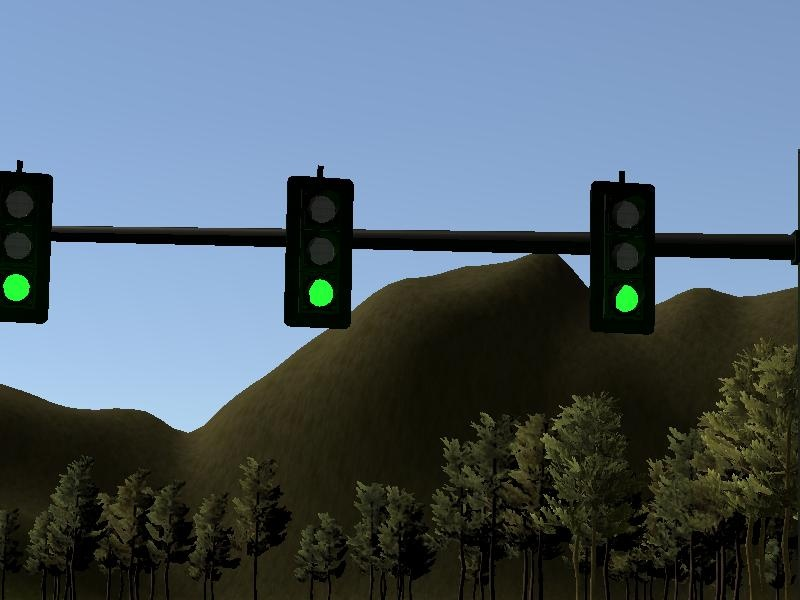GREEN: (285, 178, 353, 331), (589, 180, 656, 335), (1, 171, 54, 325)
